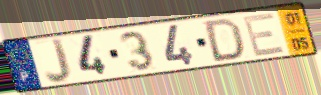3: (119, 29, 157, 72)
4: (76, 33, 113, 80), (163, 22, 199, 68)
D: (203, 17, 246, 64)
E: (240, 10, 287, 58)
J: (44, 37, 74, 85)
